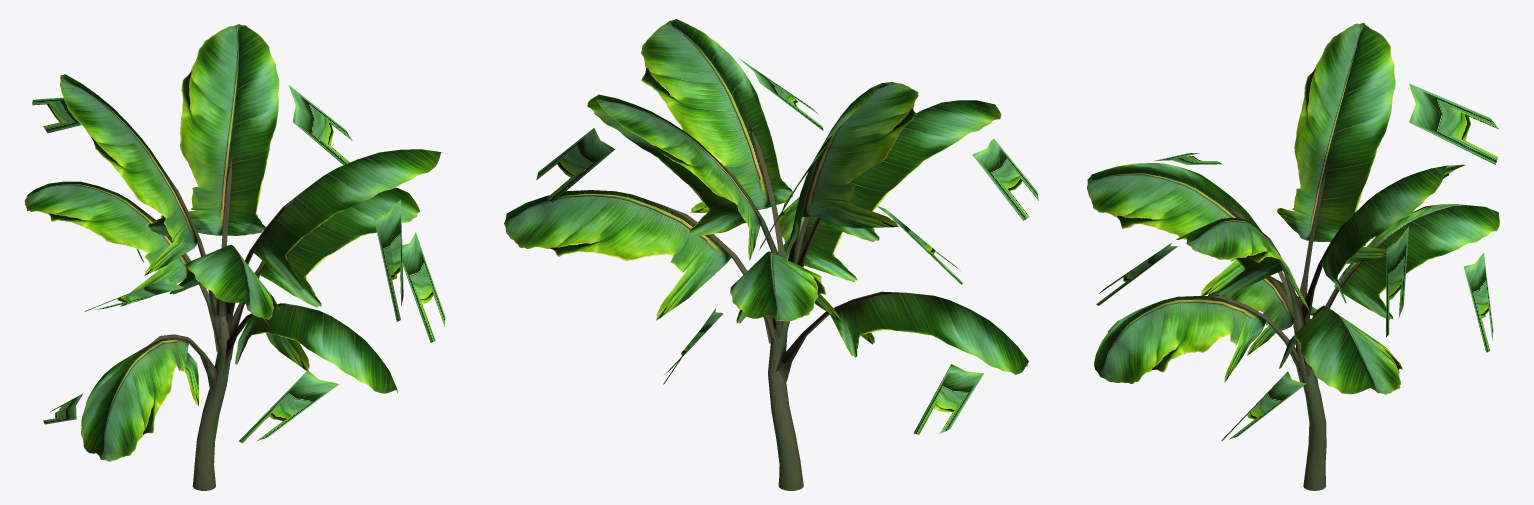
The model's file is banana-a.glb.
The picture shows the model from 3 angles, left to right: view 1: azimuth 30°, elevation 25°; view 2: azimuth 150°, elevation 25°; view 3: azimuth 270°, elevation 25°; orthographic projection. The views are drawn at different scales.
Visible parts, largest first — view 1: banana-a; view 2: banana-a; view 3: banana-a.
Part boxes in pixels (left/top/right/bottom): banana-a: left=24, top=24, right=447, bottom=490; banana-a: left=504, top=19, right=1038, bottom=490; banana-a: left=1087, top=22, right=1499, bottom=490.
Bounding box in the file's own units: 2.86 × 2.72 × 2.66.
Materials: 2 (2 with a texture image).
